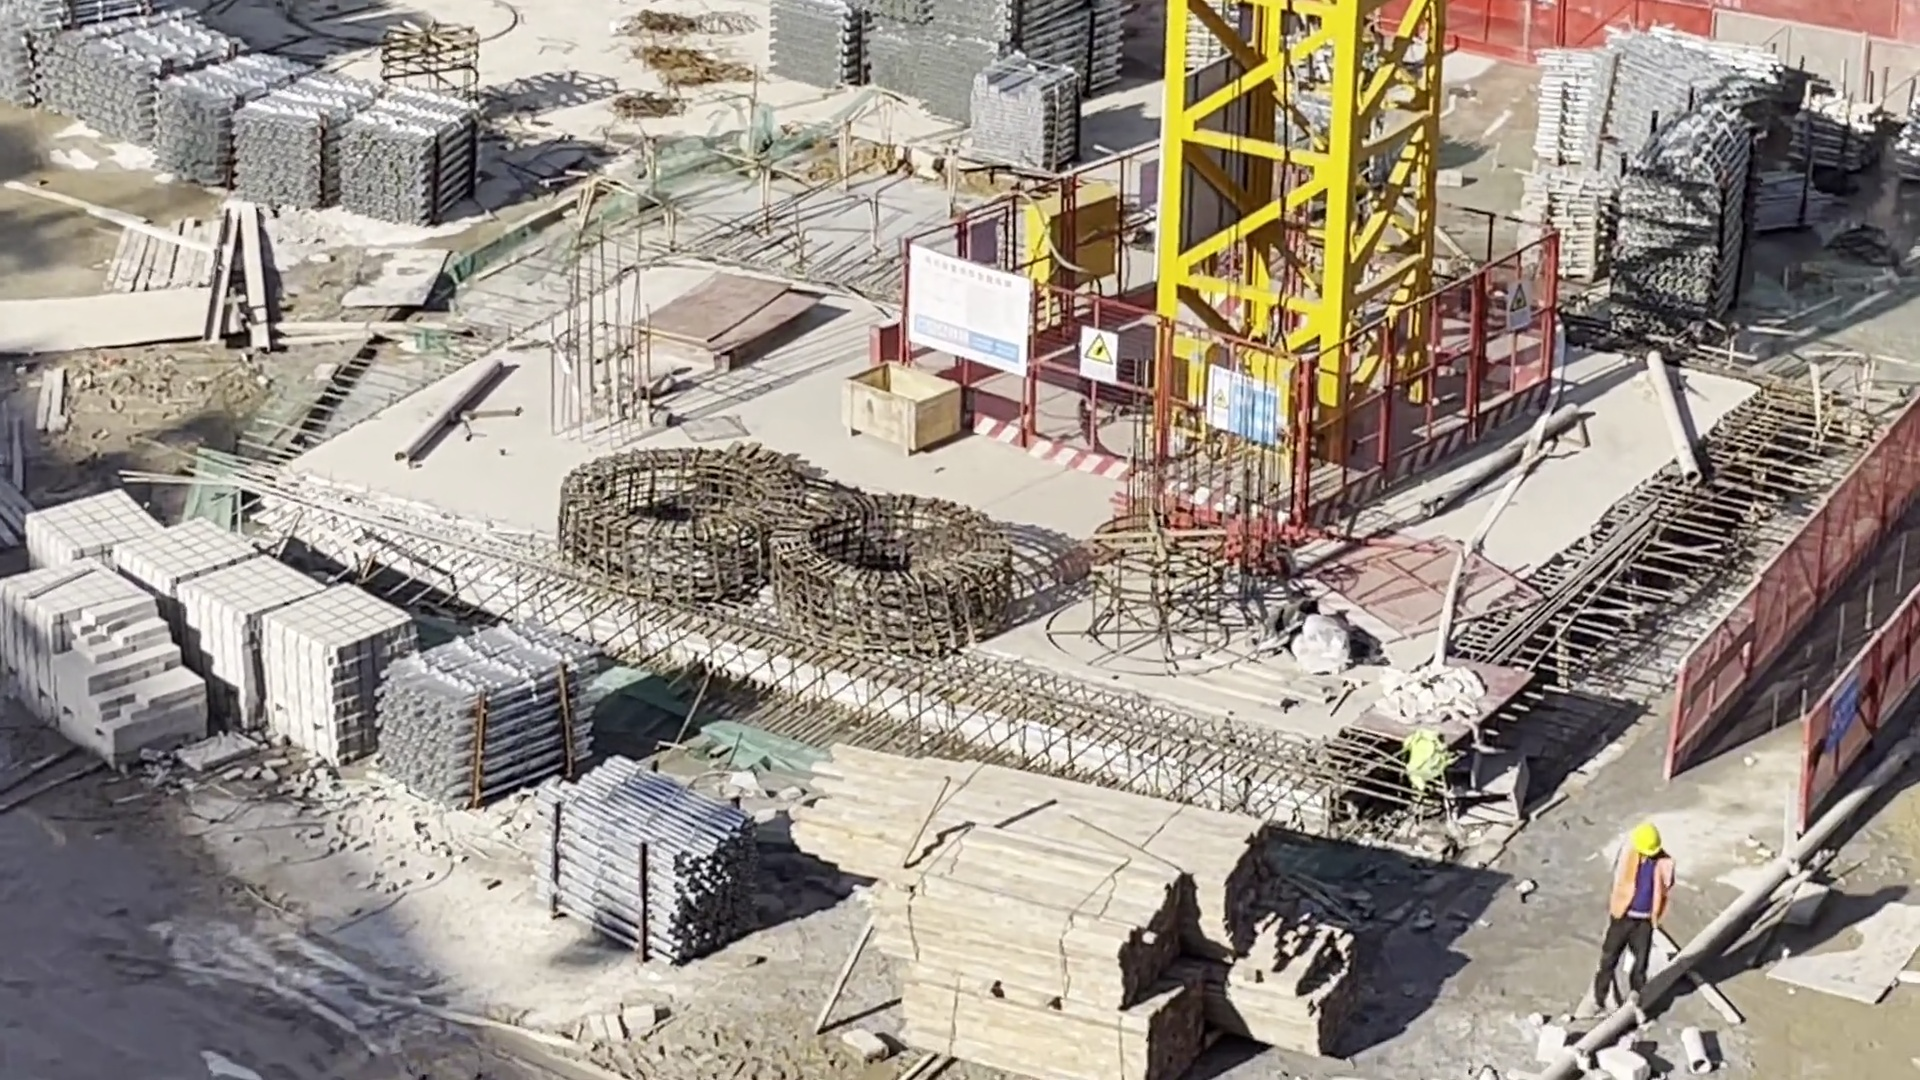board: (658, 276, 802, 358)
brick: (15, 510, 393, 761)
ebox: (1024, 191, 1120, 281)
fence: (1671, 396, 1920, 830), (1443, 3, 1920, 76)
helmet: (1632, 824, 1659, 857)
person: (1606, 823, 1663, 1023)
scaffold: (1540, 46, 1735, 326), (539, 762, 754, 961), (770, 1, 1127, 114), (383, 622, 594, 810), (161, 53, 377, 210), (71, 22, 246, 139), (340, 87, 479, 231), (1, 1, 150, 103), (973, 57, 1081, 166), (1796, 92, 1874, 179)
slogan: (1208, 368, 1282, 446), (1078, 329, 1115, 383), (1832, 677, 1856, 751), (1505, 284, 1529, 331)
vest: (1615, 843, 1671, 925)
wood: (800, 762, 1263, 958), (892, 833, 1204, 1079)
